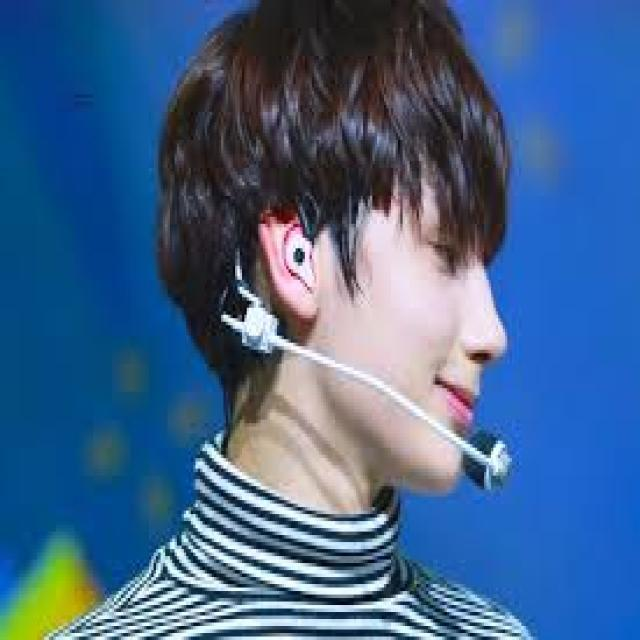earphone: (259, 206, 341, 300)
